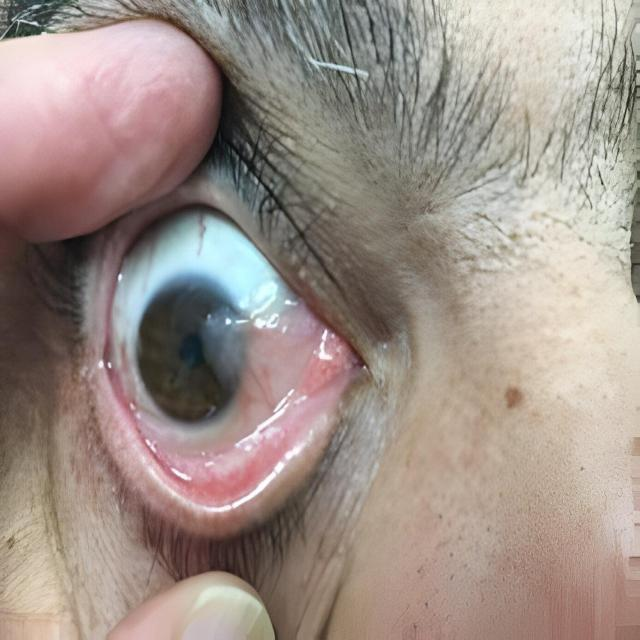Pterygium: (195, 286, 352, 418)
